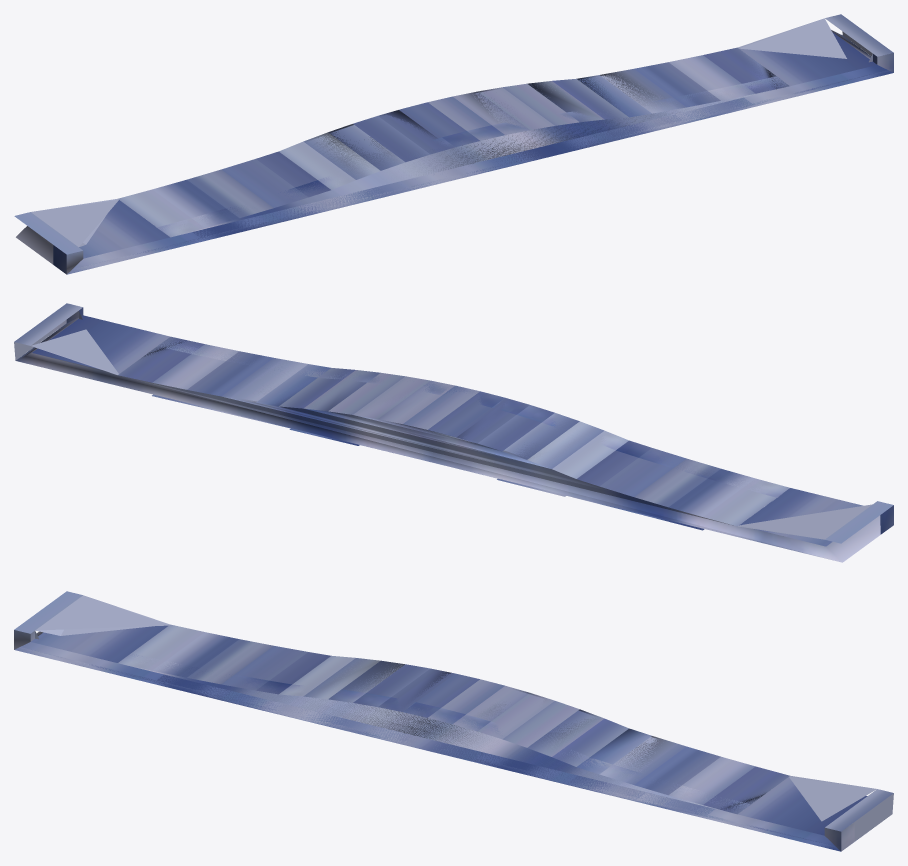
File: original-2-sharp.obj
3 views of the same model, one above another, from view 1: azimuth 30°, elevation 25°; view 2: azimuth 150°, elevation 25°; view 3: azimuth 330°, elevation 25° (orthographic).
Visible parts, largest first — view 1: mesh1/mesh1-geometry#mesh1-geometry; view 2: mesh1/mesh1-geometry#mesh1-geometry; view 3: mesh1/mesh1-geometry#mesh1-geometry.
Boxes of the visible parts, x1,y1,x2,y2 form: mesh1/mesh1-geometry#mesh1-geometry: [14, 14, 893, 274]; mesh1/mesh1-geometry#mesh1-geometry: [14, 303, 893, 562]; mesh1/mesh1-geometry#mesh1-geometry: [14, 591, 893, 851].
Bounding box in the file's own units: 0.9615 × 0.0366 × 0.1074.
